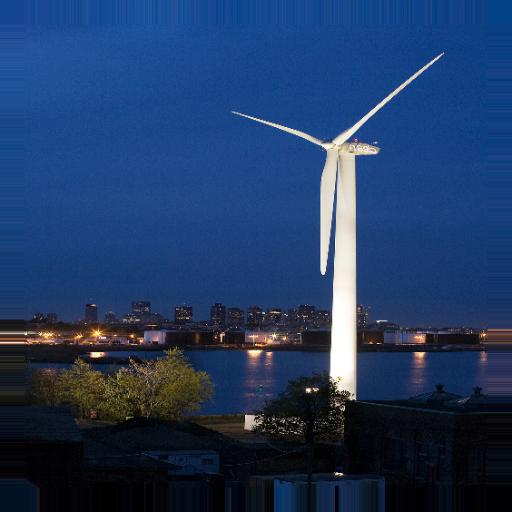wind turbine: (228, 52, 449, 408)
